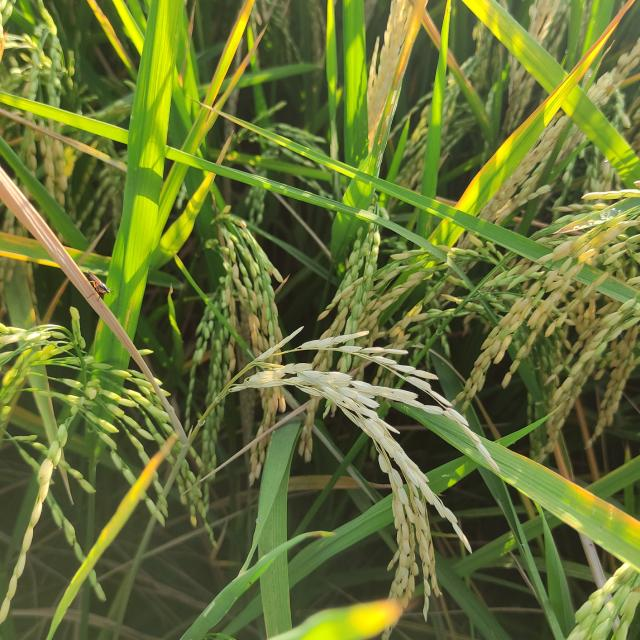Leaf scald: (81, 263, 118, 305)
